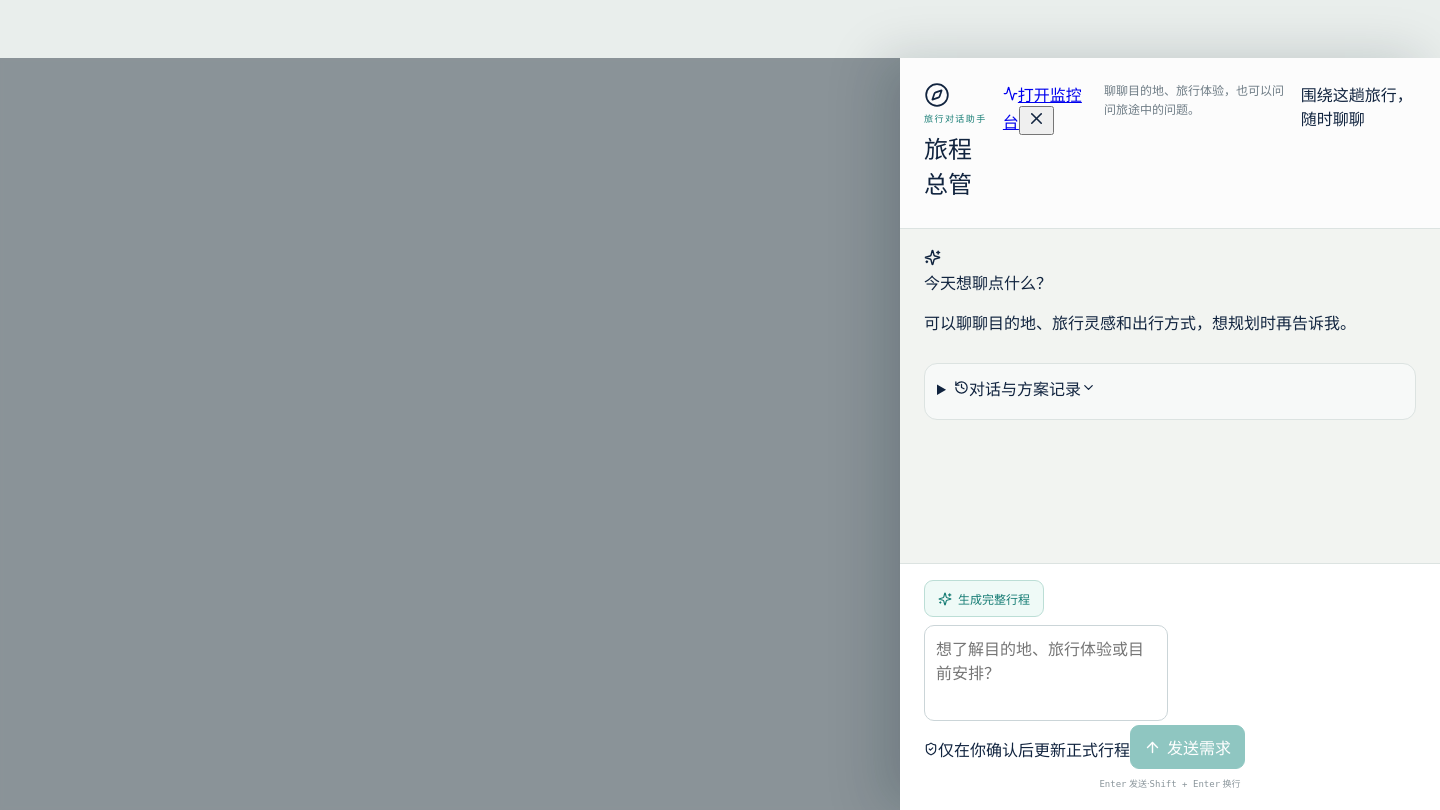
Test: restores clarification and immediately displays a returned proposal
The image size is (1440, 810).
Click the heading "对话与方案记录" at point(1025, 389), box [954,379,1096,399]
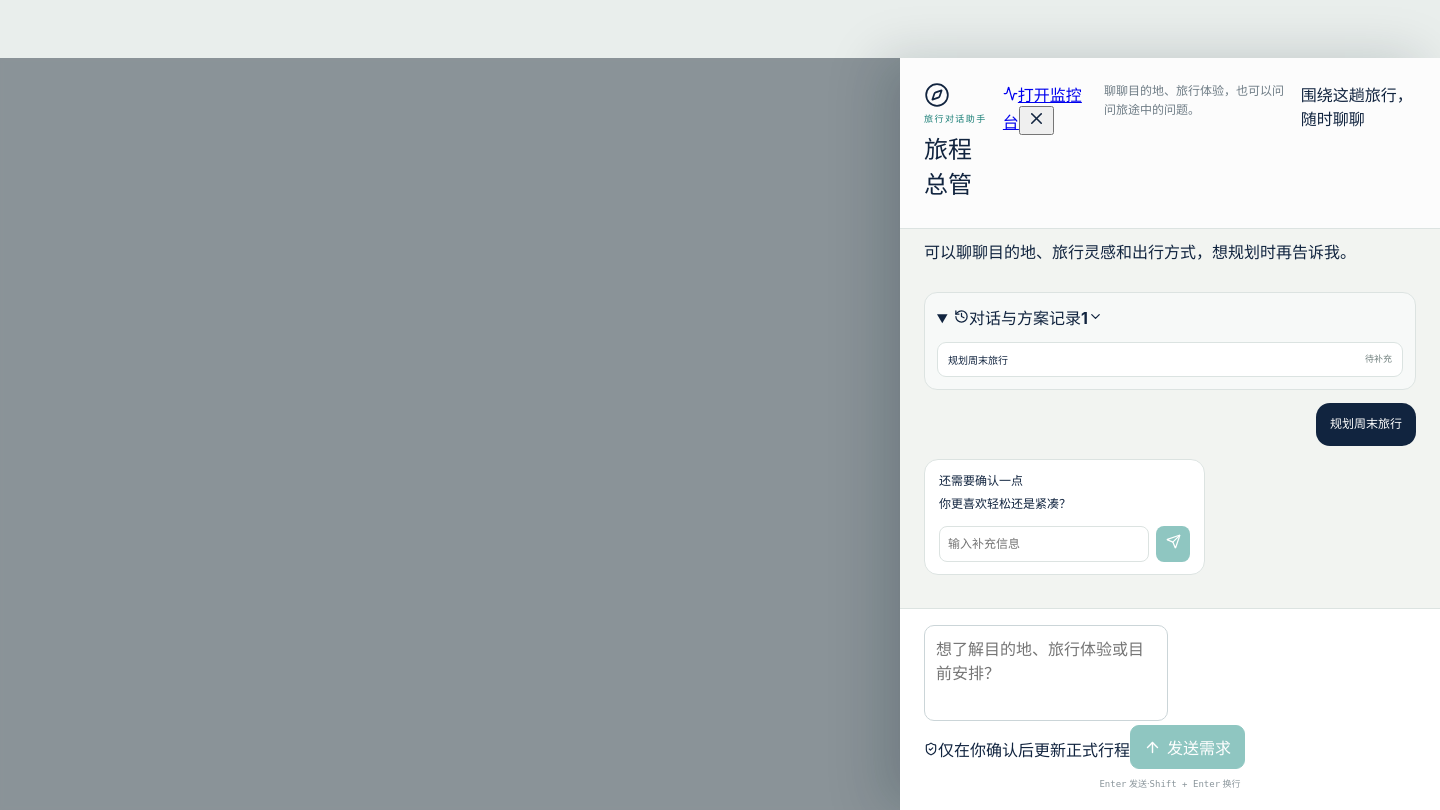
Expected: the text box named "告诉旅程总管" is enabled, [924,625,1168,721]
Result: the text "你更喜欢轻松还是紧凑？" is shown at [939,496,1071,511]
Type "轻松" into the field named "补充回答" at point(1044, 544), box [939,526,1149,562]
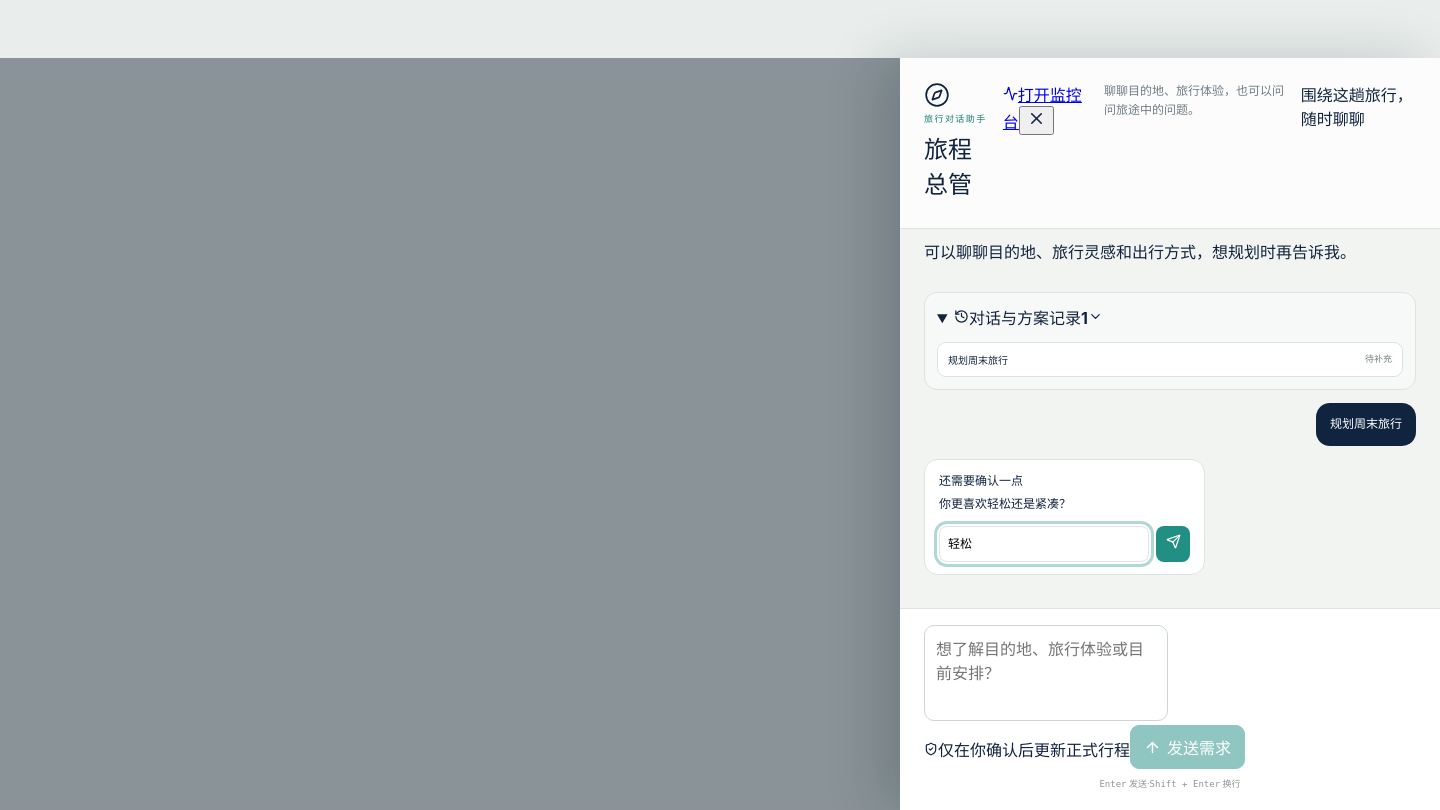
Click the button named "提交补充" at point(1173, 544), box [1156,526,1190,562]
(page scrolled)
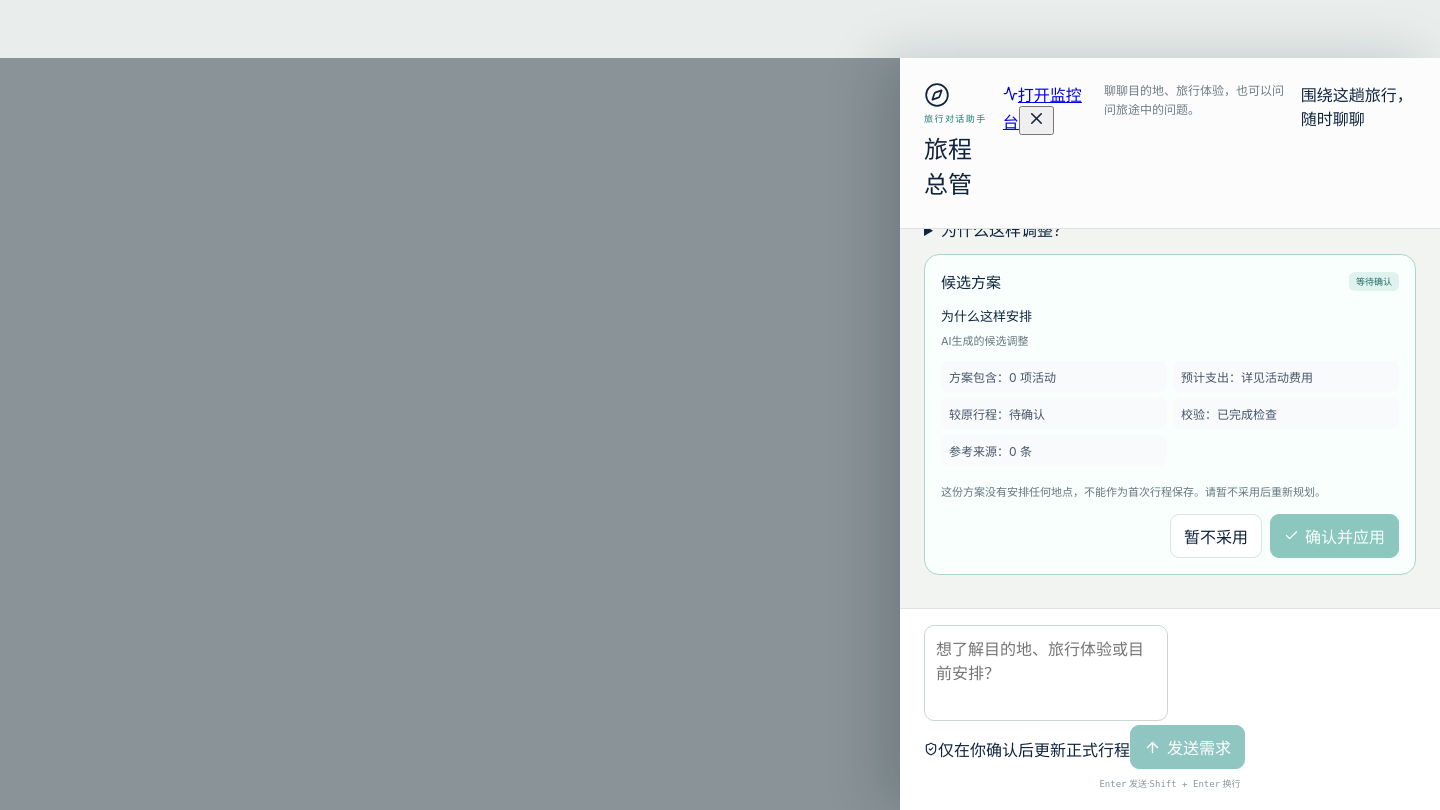
Result: the button "确认并应用" is shown at [1270,514,1399,558]
